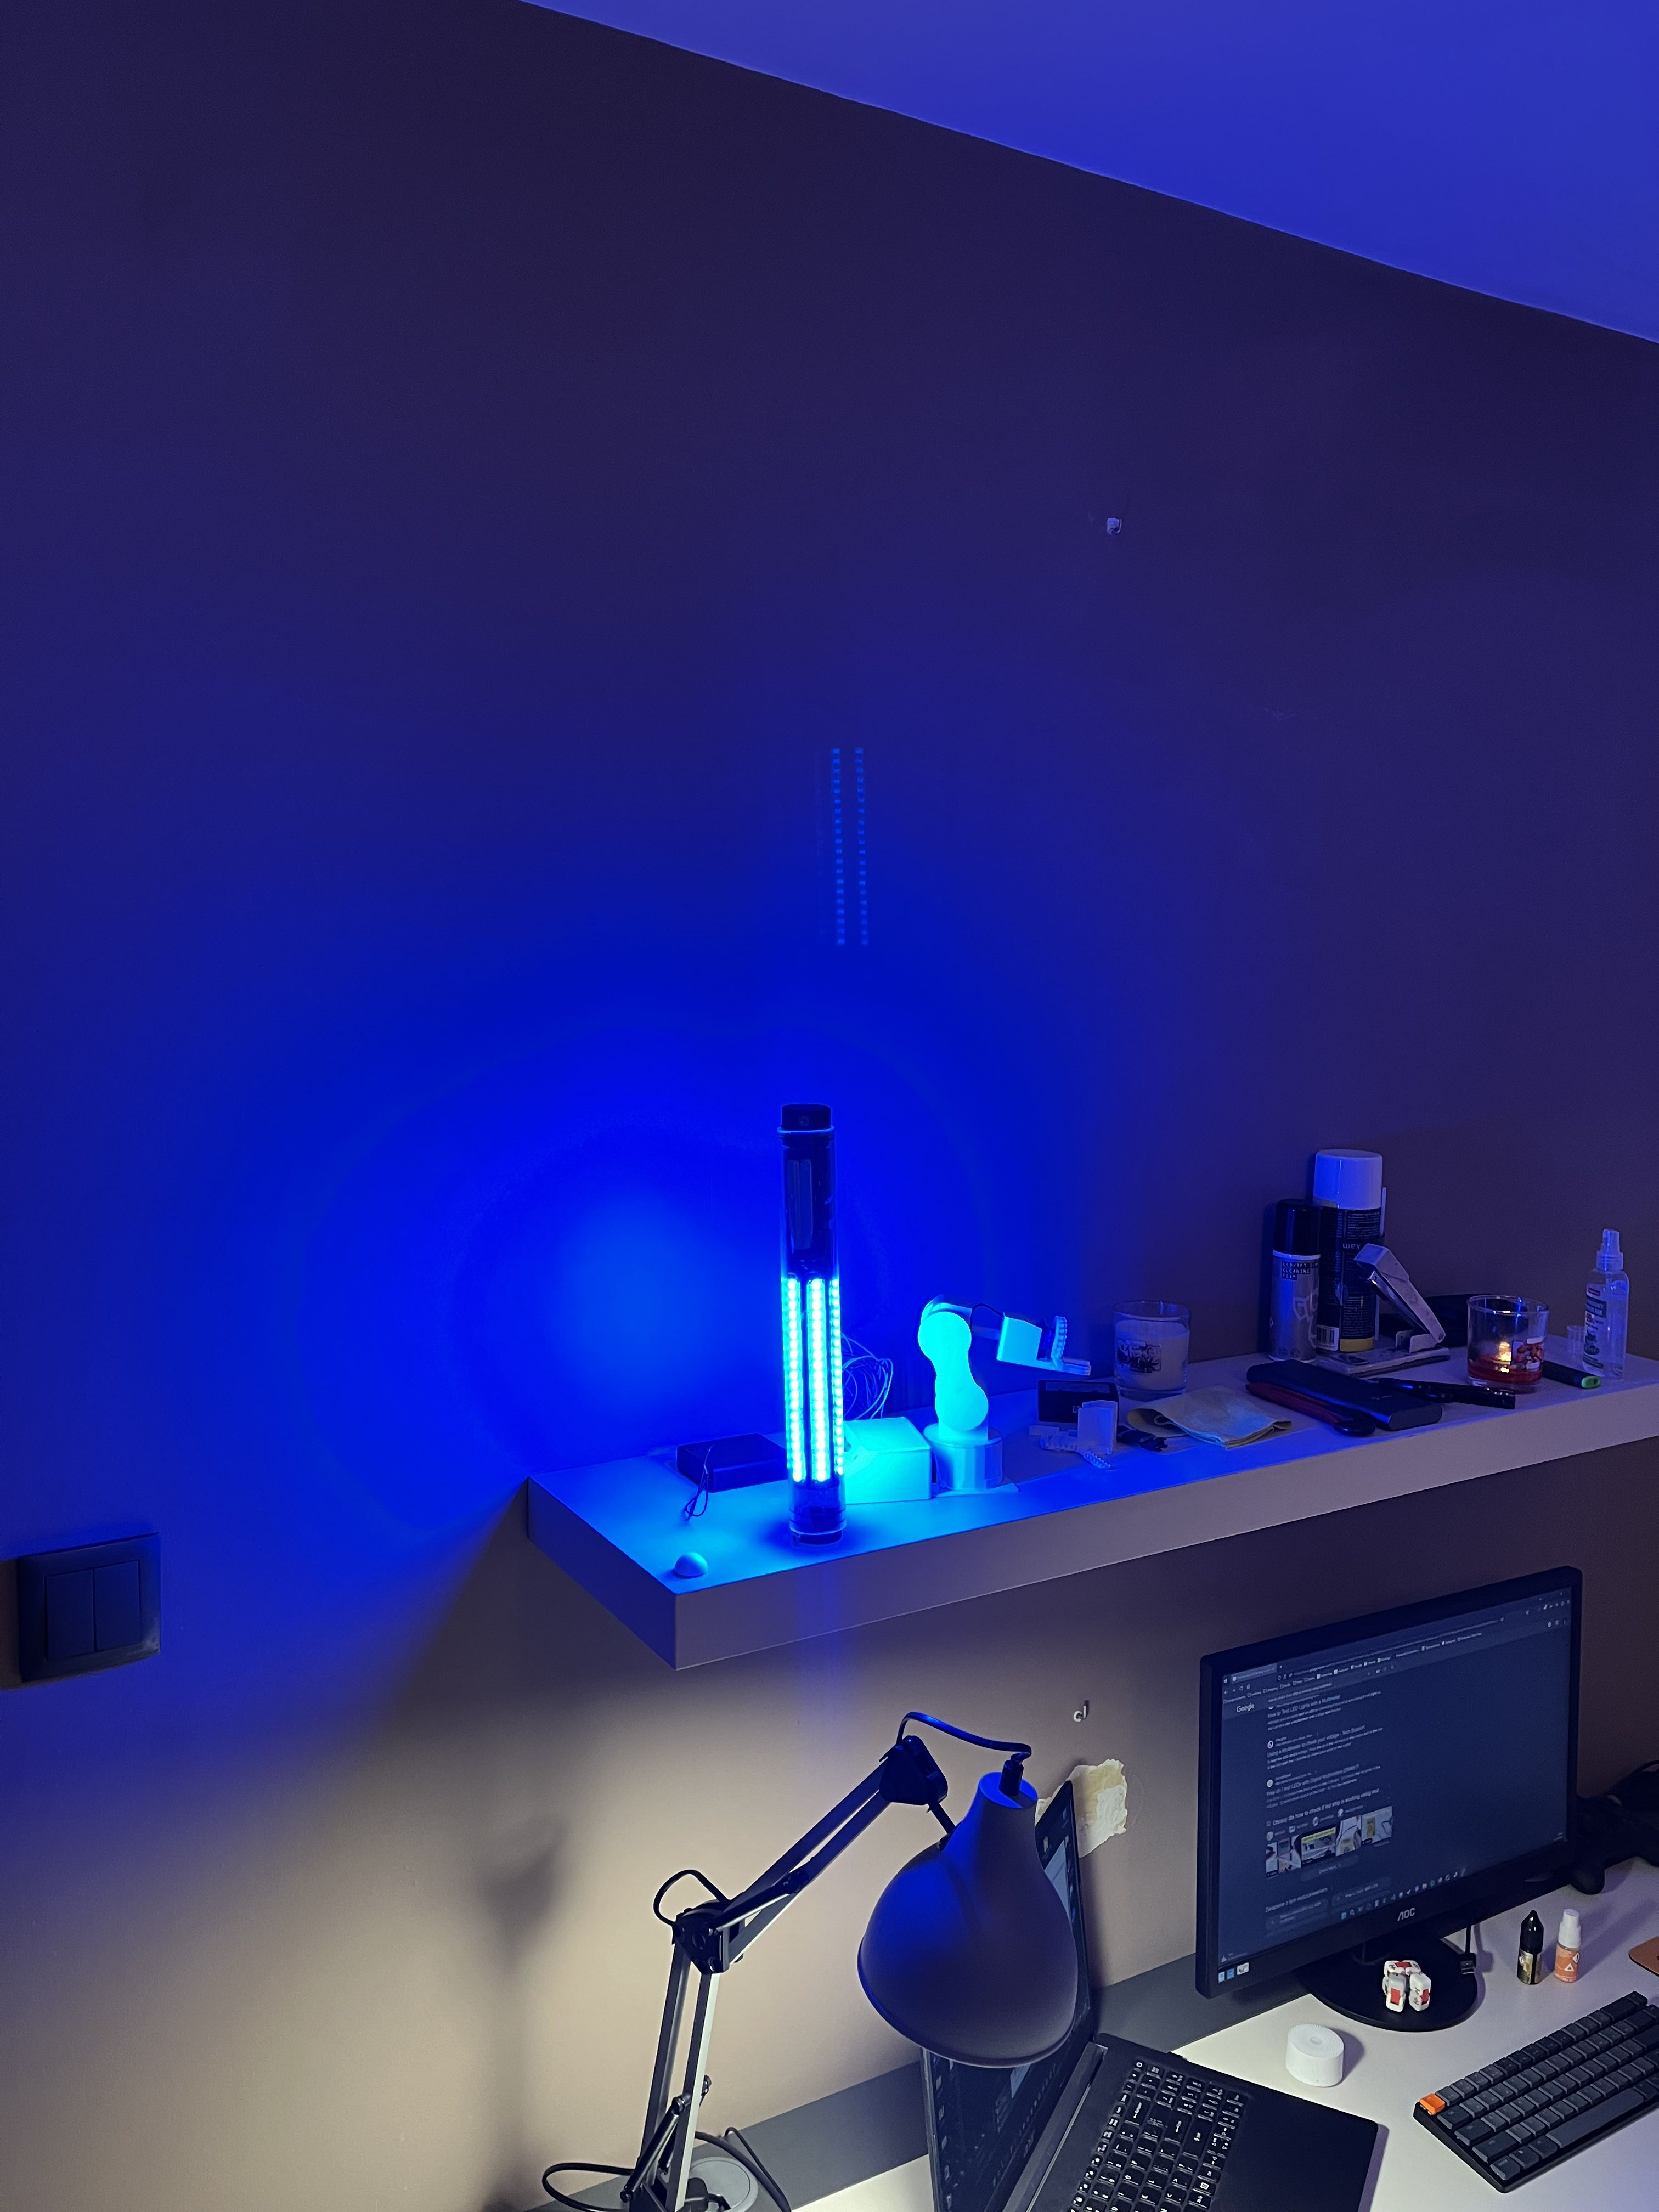blue: (775, 1130, 854, 1540)
